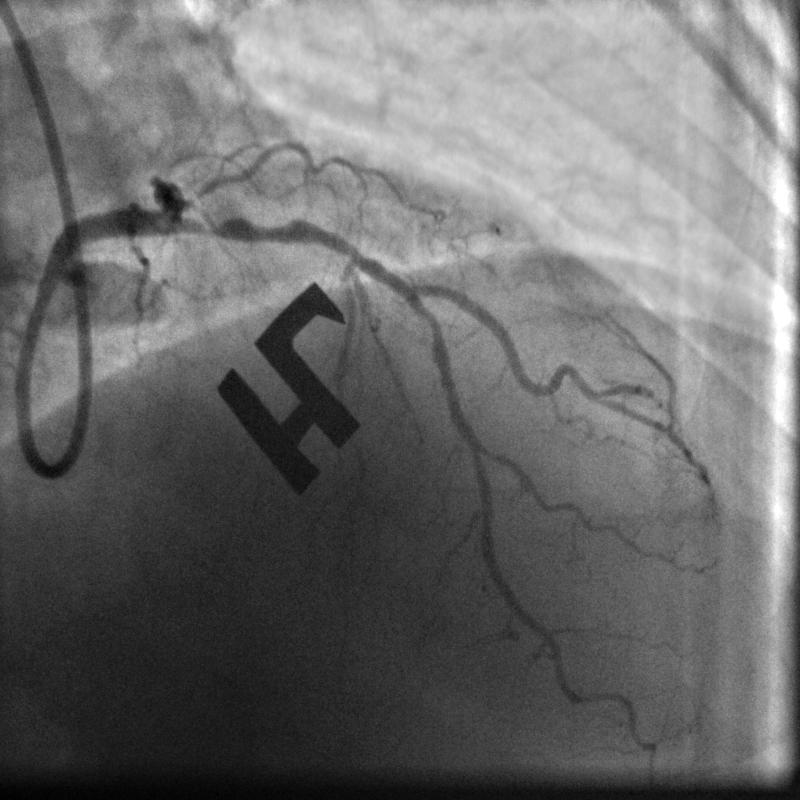Stenosis: (194, 206, 295, 239)
